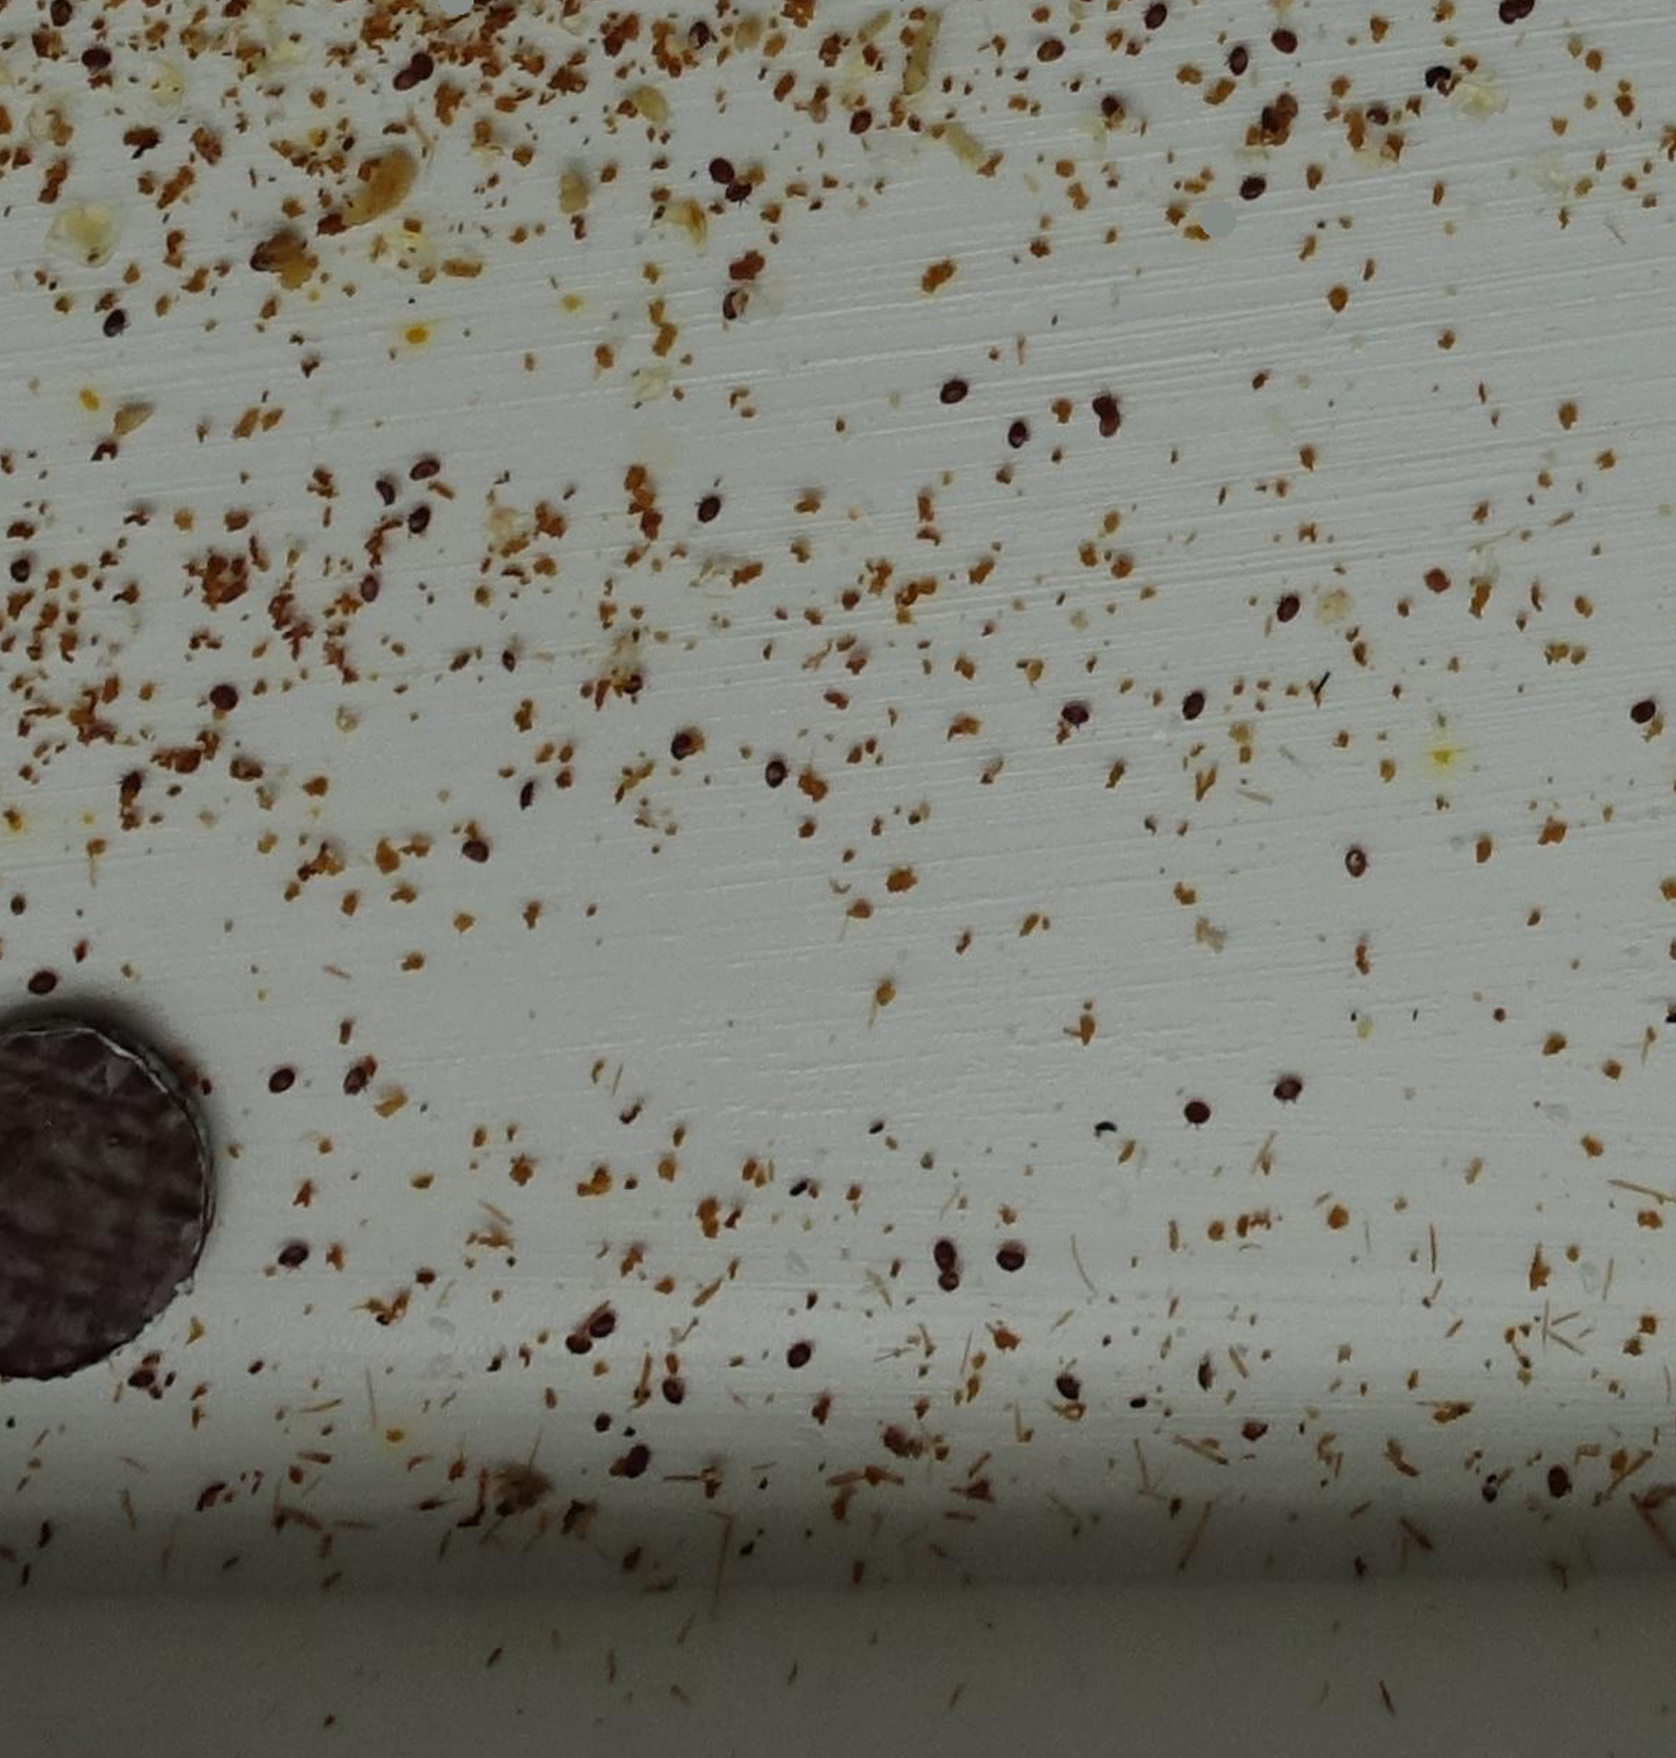Varroa: (505, 774, 549, 818), (402, 42, 444, 86), (676, 13, 719, 57), (242, 239, 284, 283), (926, 1260, 968, 1304), (1091, 88, 1133, 130), (711, 286, 753, 328), (1084, 386, 1127, 429), (364, 472, 406, 515), (610, 664, 653, 706), (110, 761, 152, 804), (265, 1060, 304, 1097), (1138, 6, 1171, 46), (563, 1331, 596, 1370), (1266, 595, 1298, 636), (1000, 411, 1029, 454), (1089, 397, 1124, 433), (337, 1063, 370, 1096), (1543, 1468, 1574, 1502), (275, 1238, 306, 1273), (392, 60, 424, 94), (1340, 851, 1372, 884), (694, 494, 725, 527), (931, 1246, 962, 1279), (577, 1315, 609, 1348), (1274, 1078, 1306, 1110), (28, 967, 60, 998), (723, 176, 753, 209), (100, 309, 130, 341), (209, 681, 239, 713), (760, 761, 789, 793), (937, 374, 967, 405), (1221, 44, 1251, 75), (998, 1246, 1026, 1279), (82, 53, 111, 83), (1179, 689, 1208, 719), (126, 1369, 155, 1399), (1059, 702, 1089, 731), (621, 1446, 651, 1475), (410, 457, 439, 487), (405, 504, 435, 534), (783, 1342, 811, 1373), (1277, 24, 1306, 53), (1627, 698, 1656, 728), (706, 157, 734, 187), (1183, 1097, 1211, 1125), (463, 838, 491, 866), (669, 735, 697, 763), (658, 1381, 686, 1410), (1364, 110, 1390, 140), (2, 557, 28, 585), (1243, 177, 1270, 204), (356, 578, 383, 604), (1037, 39, 1062, 67), (1058, 1372, 1083, 1399), (851, 107, 876, 132)
